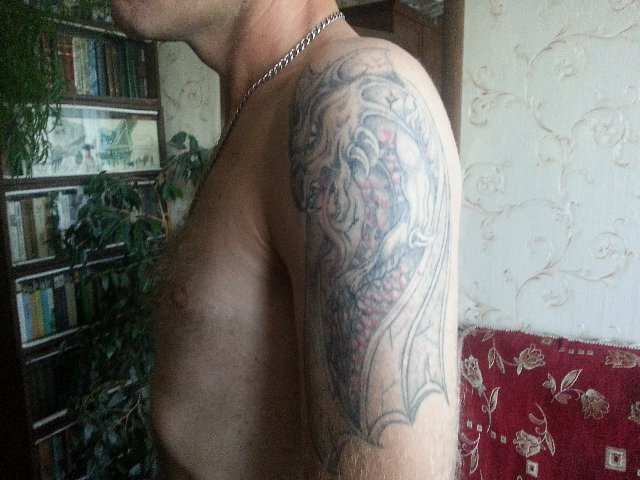tatu6_drakon: (291, 47, 467, 480)
